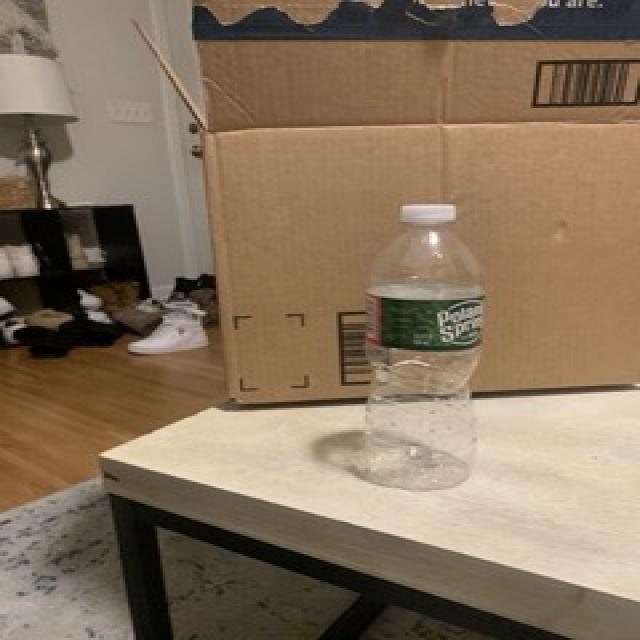water_bottle: (361, 201, 488, 492)
